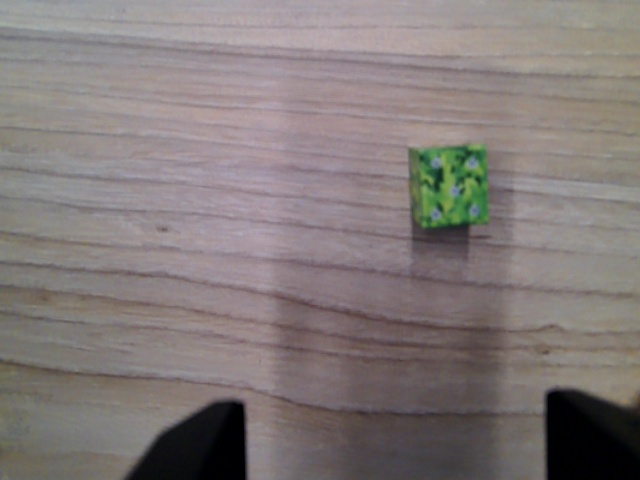grass: (406, 139, 493, 232)
